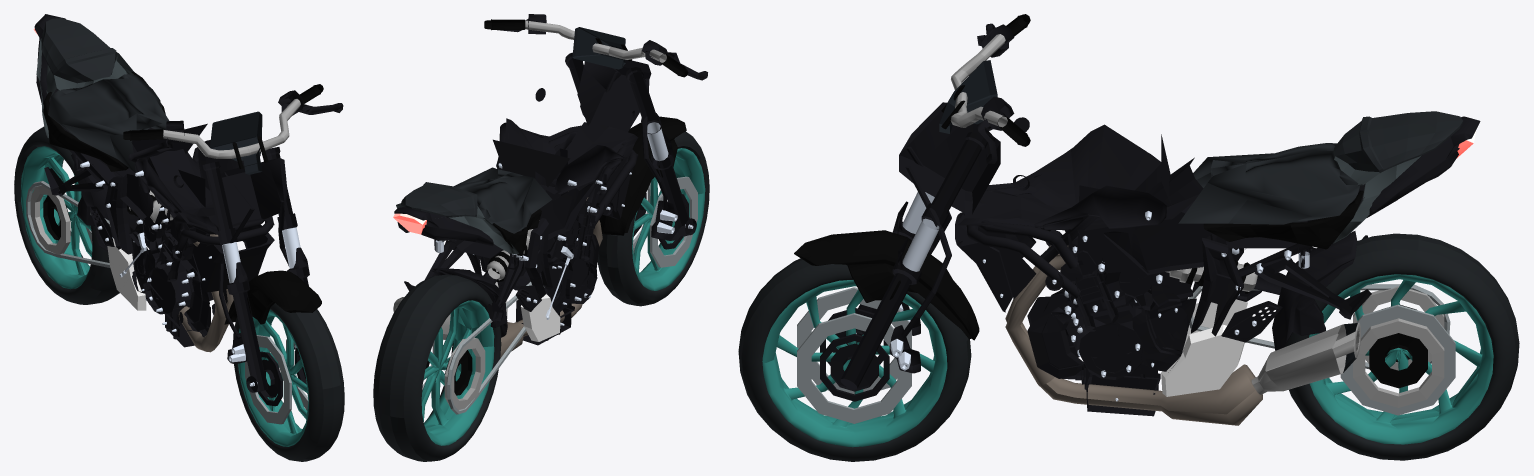
3 renders of one model, left to right at view 1: azimuth 30°, elevation 25°; view 2: azimuth 150°, elevation 25°; view 3: azimuth 270°, elevation 25°, orthographic. The views are drawn at different scales.
Parts seen in each view (by area): view 1: ReferencePart.003, ReferencePart.058, ReferencePart.067, ReferencePart.008, ReferencePart.007, ReferencePart.061, ReferencePart.064, ReferencePart.045, ReferencePart.004, ReferencePart.006, ReferencePart.019, ReferencePart.038 (+34 smaller); view 2: ReferencePart.007, ReferencePart.008, ReferencePart.003, ReferencePart.058, ReferencePart.004, ReferencePart.045, ReferencePart.064, ReferencePart.067, ReferencePart.006, ReferencePart.061, ReferencePart.066, ReferencePart.053 (+33 smaller); view 3: ReferencePart.007, ReferencePart.003, ReferencePart.058, ReferencePart.064, ReferencePart.004, ReferencePart.008, ReferencePart.050, ReferencePart.006, ReferencePart.068, ReferencePart.067, ReferencePart.061, ReferencePart.045 (+34 smaller).
Part boxes in pixels (x1,y1,x2,y2): ReferencePart.003: (233,303,344,461); ReferencePart.058: (48,74,169,172); ReferencePart.067: (202,147,309,392); ReferencePart.008: (21,146,92,289); ReferencePart.007: (14,126,119,304); ReferencePart.061: (41,18,116,83); ReferencePart.064: (132,129,274,234); ReferencePart.045: (221,157,287,227); ReferencePart.004: (238,310,308,446); ReferencePart.006: (224,270,321,324); ReferencePart.019: (210,111,262,174); ReferencePart.038: (69,150,273,261); ReferencePart.007: (373,274,501,461); ReferencePart.008: (421,300,494,445); ReferencePart.003: (597,131,709,306); ReferencePart.058: (453,167,552,233); ReferencePart.004: (632,148,705,290); ReferencePart.045: (577,60,651,132); ReferencePart.064: (502,118,638,194); ReferencePart.067: (565,52,689,236); ReferencePart.006: (599,116,686,235); ReferencePart.061: (401,182,477,217); ReferencePart.066: (446,139,570,233); ReferencePart.053: (496,122,624,194); ReferencePart.007: (1285,233,1519,460); ReferencePart.003: (738,258,971,461); ReferencePart.058: (1178,143,1359,224); ReferencePart.064: (958,124,1203,232); ReferencePart.004: (762,280,947,447); ReferencePart.008: (1309,274,1493,444); ReferencePart.050: (1005,245,1262,425); ReferencePart.006: (794,230,979,340); ReferencePart.068: (797,287,911,423); ReferencePart.067: (840,132,987,389); ReferencePart.061: (1335,111,1463,172); ReferencePart.045: (899,102,1000,214).
Bounding box in the file's own units: 0.8139 × 1.12 × 2.01.
